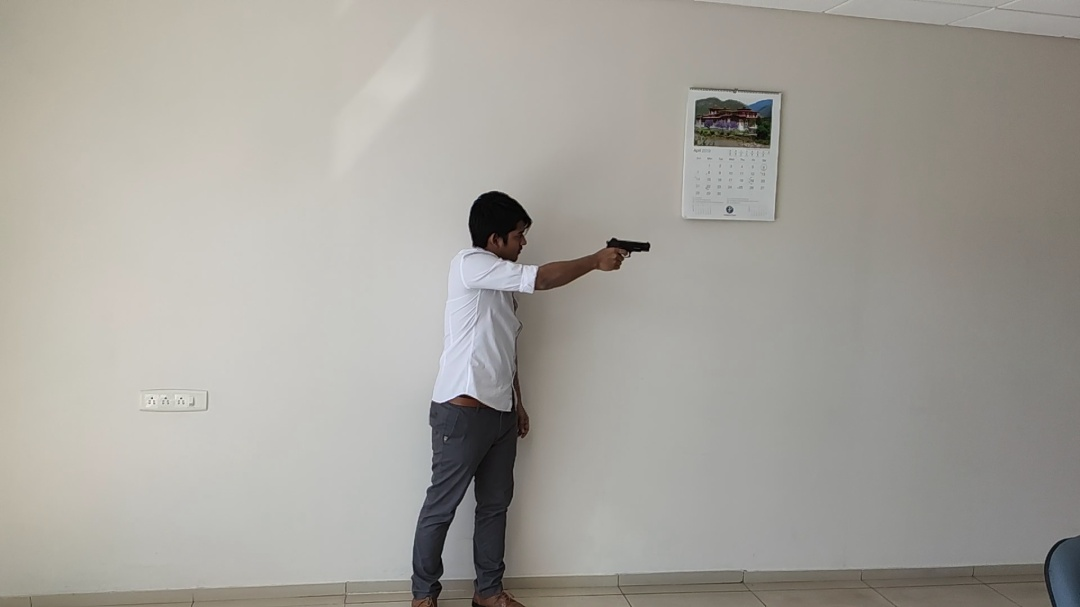gun: (605, 237, 651, 260)
